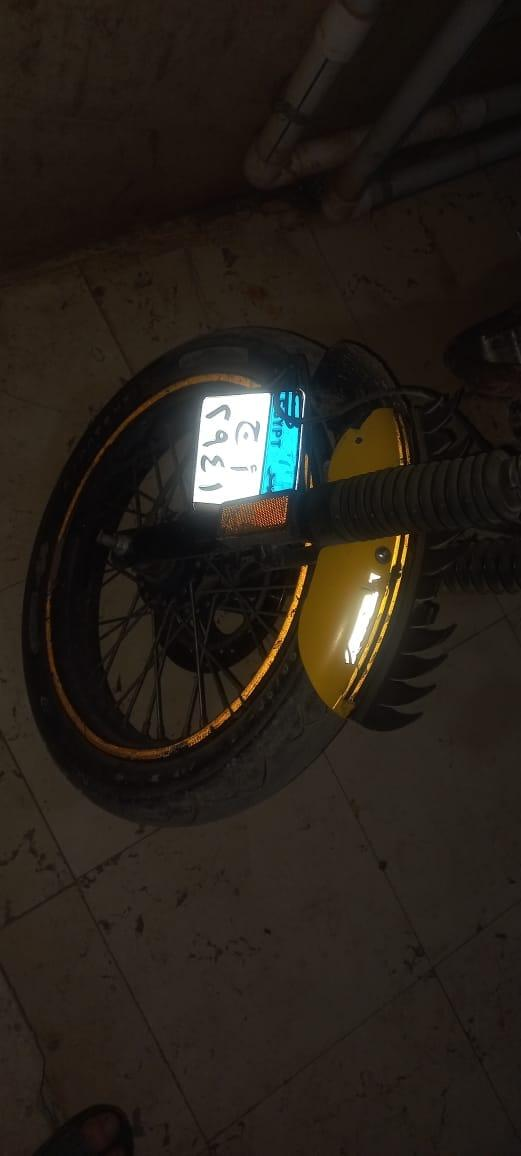License Plate: (187, 386, 284, 504)
